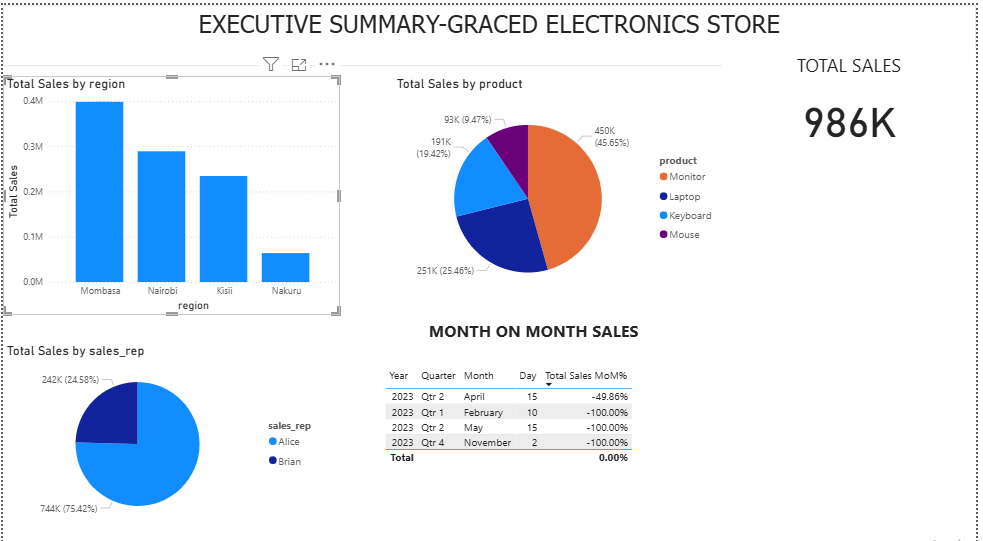

The dashboard page shown, as its layout file describes it:
{"tool":"powerbi","page":{"name":"Page 2","canvas":[1280,720],"ordinal":0},"visuals":[{"type":"clusteredColumnChart","fields":{"Category":["Project 2 Data.region"],"Y":["Project 2 Data.Total Sales"]},"box":[0,94.1,443.5,314.1],"z":1},{"type":"pieChart","fields":{"Category":["Project 2 Data.sales_rep"],"Y":["Project 2 Data.Total Sales"]},"box":[0,445.1,430,246.9],"z":2},{"type":"clusteredBarChart","fields":{"Category":["Project 2 Data.product"],"Y":["Project 2 Data.Total Sales"]},"box":[496.8,80.6,439.2,328.3],"z":3},{"type":"textbox","box":[0,0,1280,80.6],"z":4},{"type":"card","fields":{"Values":["Project 2 Data.Total Sales"]},"box":[947.5,103.7,332.6,86.4],"z":5},{"type":"textbox","box":[946.1,56.2,334.1,47.5],"z":6},{"type":"tableEx","fields":{"Values":["Project 2 Data.order_date.Variation.Date Hierarchy.Year","Project 2 Data.order_date.Variation.Date Hierarchy.Quarter","Project 2 Data.order_date.Variation.Date Hierarchy.Month","Project 2 Data.order_date.Variation.Date Hierarchy.Day","Project 2 Data.Total Sales MoM%"]},"box":[496.8,472.3,401.8,218.9],"z":7},{"type":"textbox","box":[496.8,409,401.8,63.4],"z":8}]}

Visuals, with their boxes in screenshot pixels (x1, y1, x2, y2), scaled from the page's 1280x720 canvas onto the 983x541 screenshot:
clusteredColumnChart - Project 2 Data.region x Project 2 Data.Total Sales: detection(0, 71, 341, 307)
pieChart - Project 2 Data.sales_rep x Project 2 Data.Total Sales: detection(0, 334, 330, 520)
clusteredBarChart - Project 2 Data.product x Project 2 Data.Total Sales: detection(382, 61, 719, 307)
textbox: detection(0, 0, 982, 61)
card - Project 2 Data.Total Sales: detection(728, 78, 982, 143)
textbox: detection(727, 42, 982, 78)
tableEx - Project 2 Data.order_date.Variation.Date Hierarchy.Year x Project 2 Data.order_date.Variation.Date Hierarchy.Quarter: detection(382, 355, 690, 519)
textbox: detection(382, 307, 690, 355)
